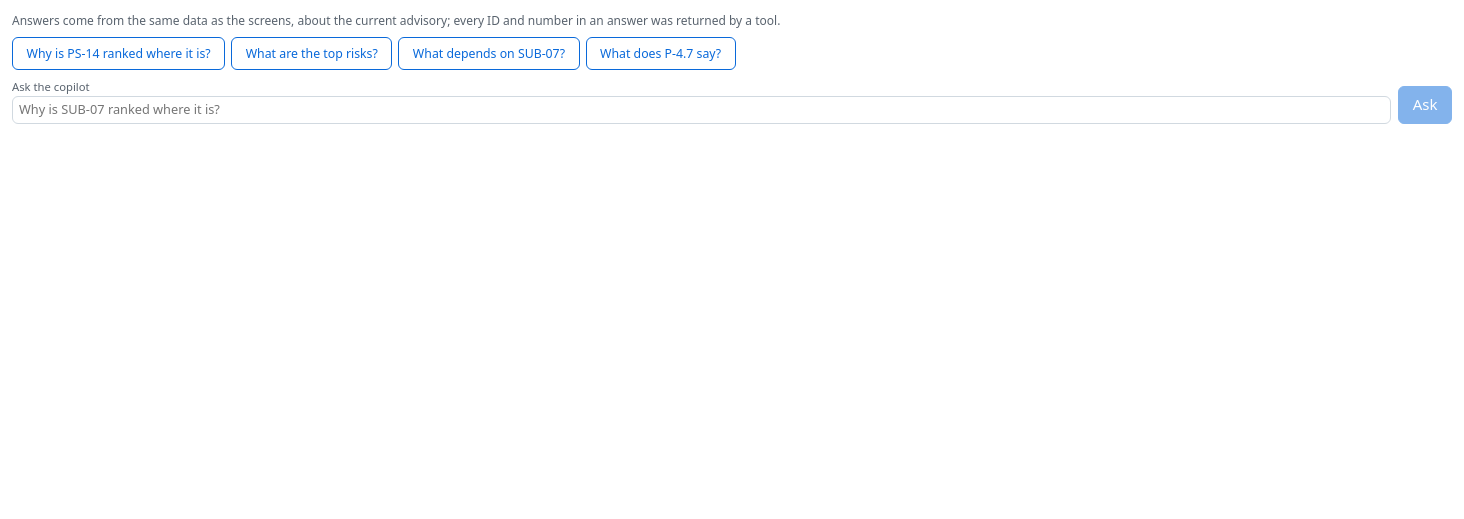
Test: each answer has a "How I got this" panel with the tools, validation and cost
The width and height of the screenshot is (1464, 519).
Click the button "Why is PS-14 ranked where it is?" at [119, 54], box x1=12 y1=37 x2=225 y2=70
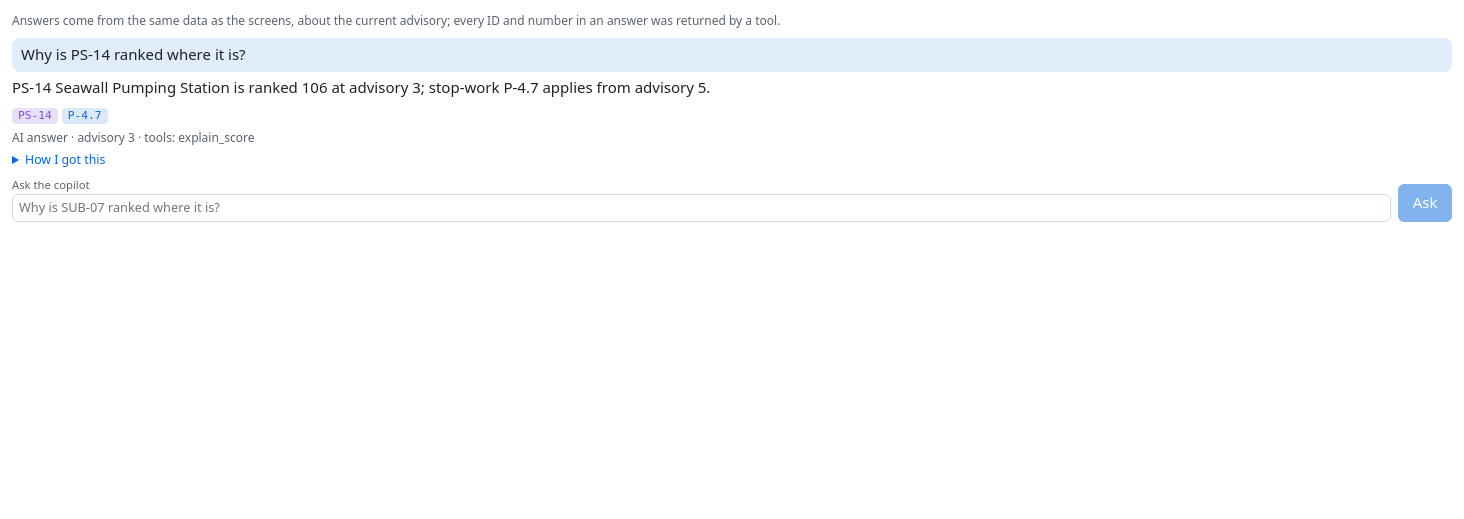
Click the heading "How I got this" at [65, 159], box x1=25 y1=151 x2=105 y2=168
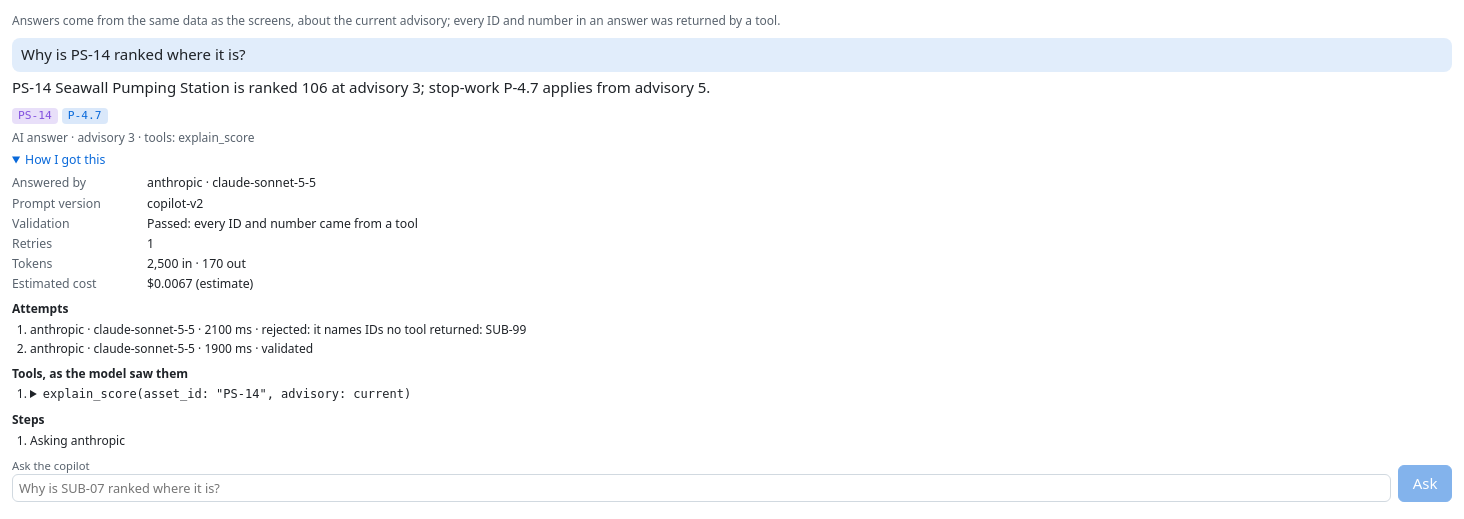
Check: the text "anthropic · claude-sonnet-5-5" is shown, box x1=147 y1=174 x2=316 y2=191
Check: the text "copilot-v2" is shown, box x1=147 y1=194 x2=203 y2=212
Check: the text "Passed: every ID and number came from a tool" is shown, box x1=147 y1=215 x2=418 y2=232
